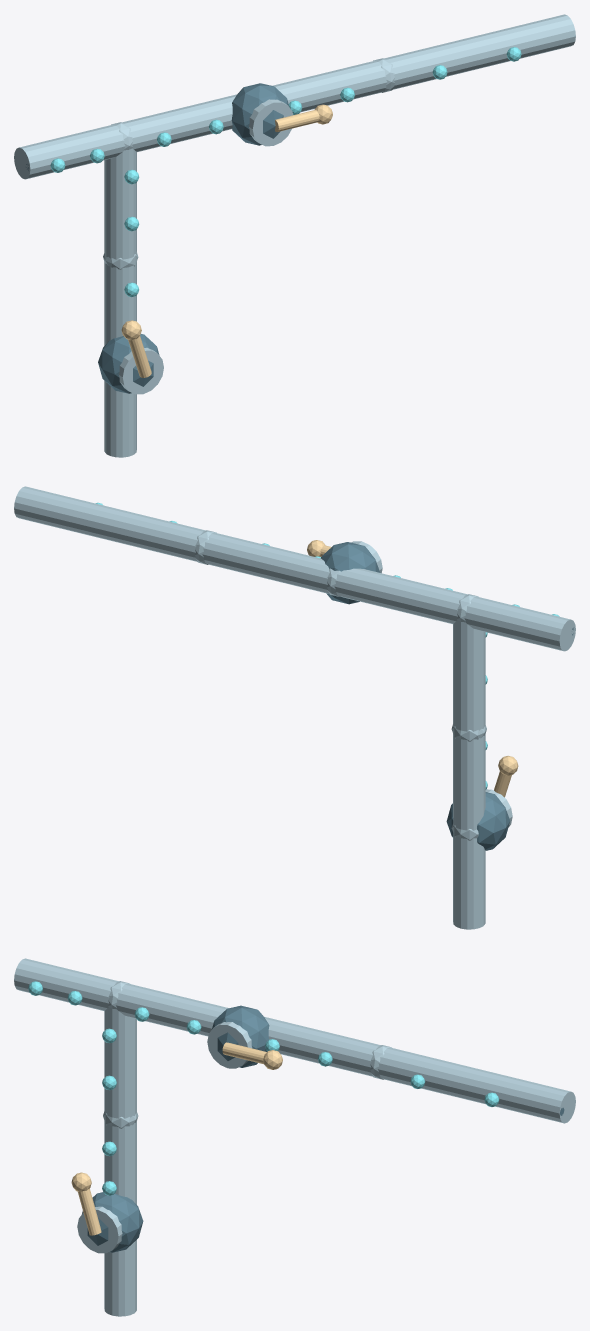
Rendered from water-10-1.glb.
3 views of the same model, one above another, from view 1: azimuth 30°, elevation 25°; view 2: azimuth 150°, elevation 25°; view 3: azimuth 330°, elevation 25° (orthographic).
Parts seen in each view (by area): view 1: pipe, dark, flow, handle; view 2: pipe, dark, handle; view 3: pipe, dark, flow, handle.
Part boxes in pixels (box(x1,y1,x2,y2)): pipe: box(14, 14, 575, 457); dark: box(26, 83, 289, 393); flow: box(50, 47, 521, 297); handle: box(121, 104, 332, 377); pipe: box(14, 486, 575, 929); dark: box(321, 542, 574, 850); handle: box(307, 540, 518, 797); pipe: box(14, 958, 575, 1316); dark: box(82, 1005, 564, 1252); flow: box(28, 981, 499, 1195); handle: box(71, 1042, 282, 1235).
Size of the model in its own units: 2.77 by 1.65 by 0.343.
